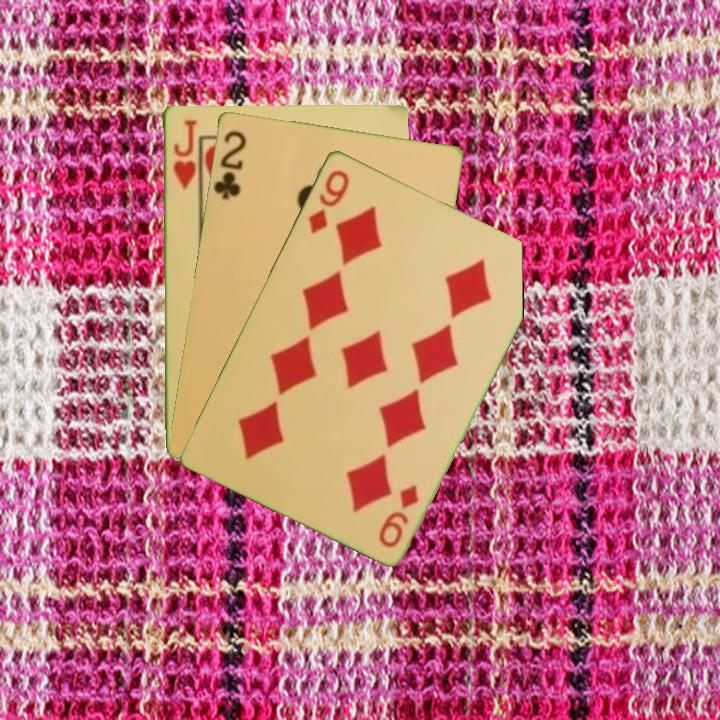2c: (210, 126, 249, 202)
9d: (304, 165, 352, 236), (375, 480, 422, 550)
Jh: (169, 115, 199, 191)
